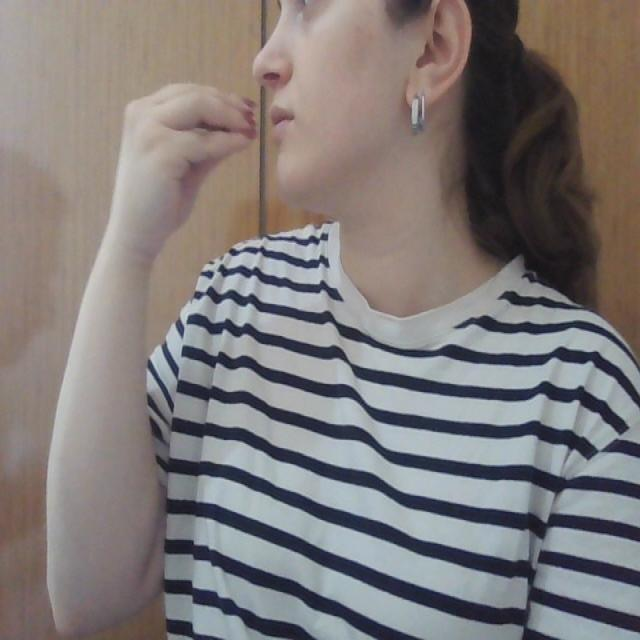Yemek: (102, 76, 315, 163)
